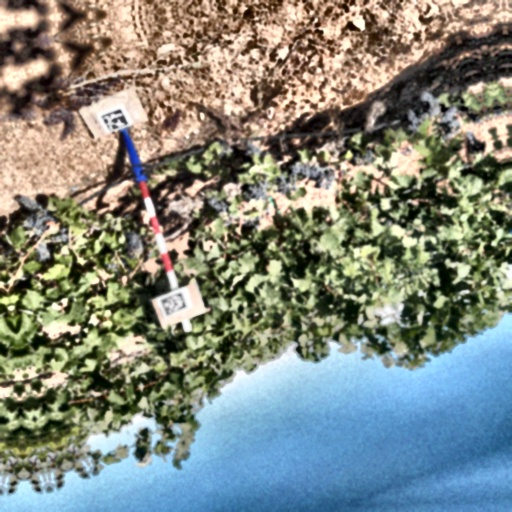QR: (156, 290, 191, 318), (100, 107, 130, 134)
